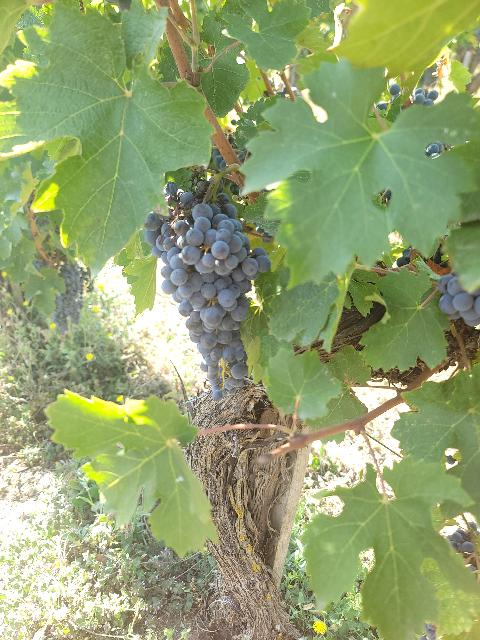grapes: (145, 178, 271, 400)
